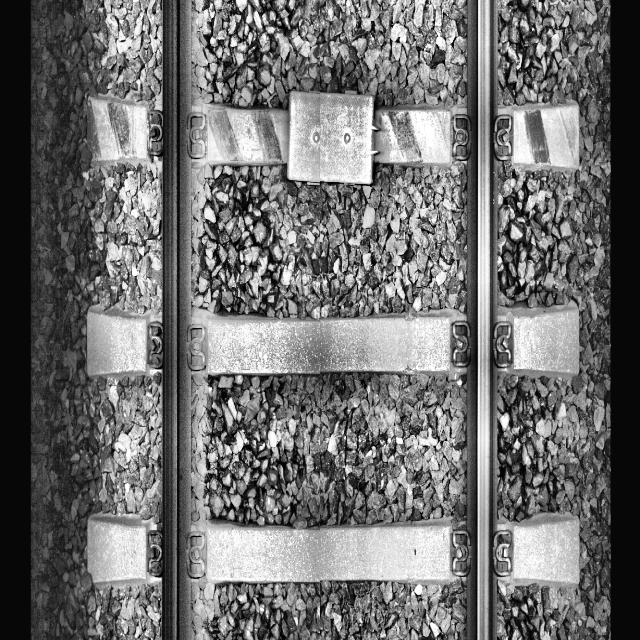Clips: (183, 320, 210, 374), (186, 112, 212, 164), (143, 524, 167, 580), (491, 111, 515, 165), (186, 531, 210, 584), (450, 528, 474, 580), (451, 318, 473, 371), (450, 112, 473, 162), (493, 530, 515, 578), (491, 321, 513, 368), (146, 106, 165, 158), (146, 319, 166, 368)
Sleepers: (80, 82, 584, 175), (85, 506, 582, 590), (85, 302, 582, 384)
